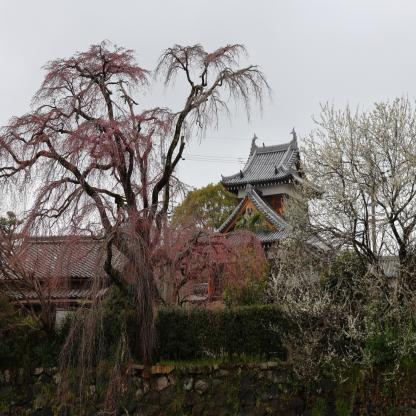Ume: (0, 36, 278, 416), (268, 93, 416, 392)
